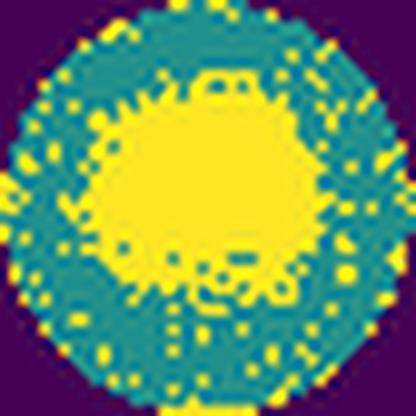Center: (75, 68, 325, 294)
